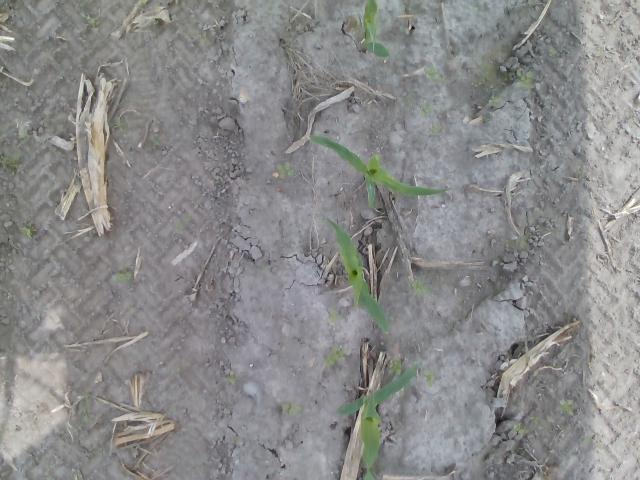Maize: (334, 359, 422, 480), (308, 134, 451, 208), (323, 215, 390, 335), (360, 0, 390, 58)
Weeds: (322, 346, 345, 370), (80, 12, 100, 32), (556, 399, 576, 417), (516, 70, 536, 88), (276, 162, 295, 180), (282, 399, 302, 415), (411, 278, 429, 295), (426, 65, 444, 82), (2, 154, 22, 169), (177, 214, 192, 234), (111, 115, 128, 132), (420, 370, 438, 386), (222, 371, 244, 383), (116, 265, 132, 281), (388, 359, 403, 376), (22, 222, 36, 240), (78, 404, 90, 424), (327, 308, 341, 324), (420, 102, 434, 116), (88, 448, 107, 458), (513, 422, 526, 436), (488, 94, 502, 107), (401, 93, 413, 107), (428, 124, 443, 134), (473, 6, 485, 16), (170, 364, 180, 375), (529, 415, 541, 424), (20, 129, 30, 139), (150, 136, 160, 145), (576, 170, 585, 178), (549, 50, 557, 56), (262, 264, 268, 270)
